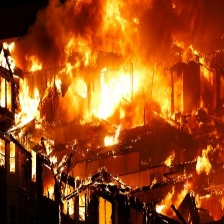fire: (52, 43, 166, 149), (52, 160, 132, 216), (3, 135, 59, 185), (154, 186, 215, 223), (1, 83, 45, 131), (177, 41, 215, 81), (100, 1, 136, 32), (1, 43, 21, 75), (197, 146, 212, 178), (26, 53, 44, 73), (164, 157, 174, 166)
smoke: (22, 1, 89, 43), (143, 3, 221, 39)
